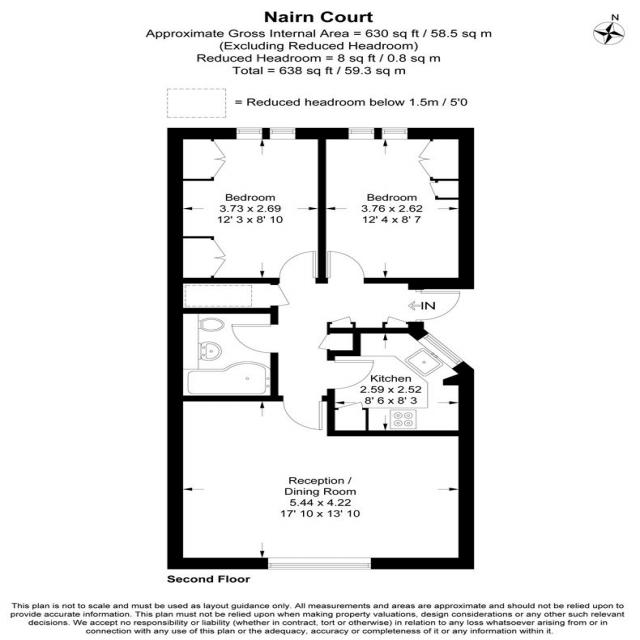DOOR: (408, 288, 462, 323), (280, 395, 325, 432), (230, 322, 279, 354), (327, 359, 375, 390), (326, 250, 366, 284), (278, 250, 318, 284)
ROOM: (167, 395, 475, 570), (318, 128, 475, 290), (167, 127, 326, 284), (326, 327, 475, 436)
WINDOW: (416, 332, 465, 370), (266, 557, 373, 570), (347, 127, 376, 140), (380, 127, 409, 140), (235, 127, 264, 140), (268, 127, 297, 140)
